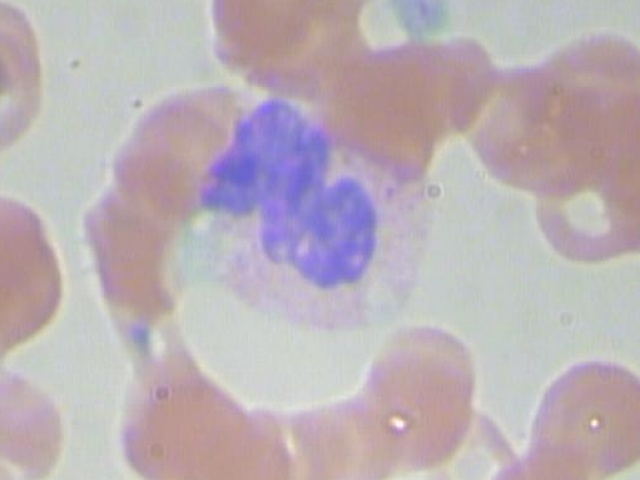RBC: (451, 54, 608, 194), (515, 10, 640, 150), (516, 132, 640, 272), (369, 312, 484, 454), (342, 345, 456, 480), (526, 354, 640, 480), (314, 363, 429, 480), (406, 395, 547, 480), (272, 376, 386, 480), (203, 0, 357, 66), (0, 357, 76, 480), (0, 29, 51, 169), (0, 0, 57, 114), (474, 449, 615, 480), (0, 448, 27, 480)
WBC: (209, 91, 454, 340)
